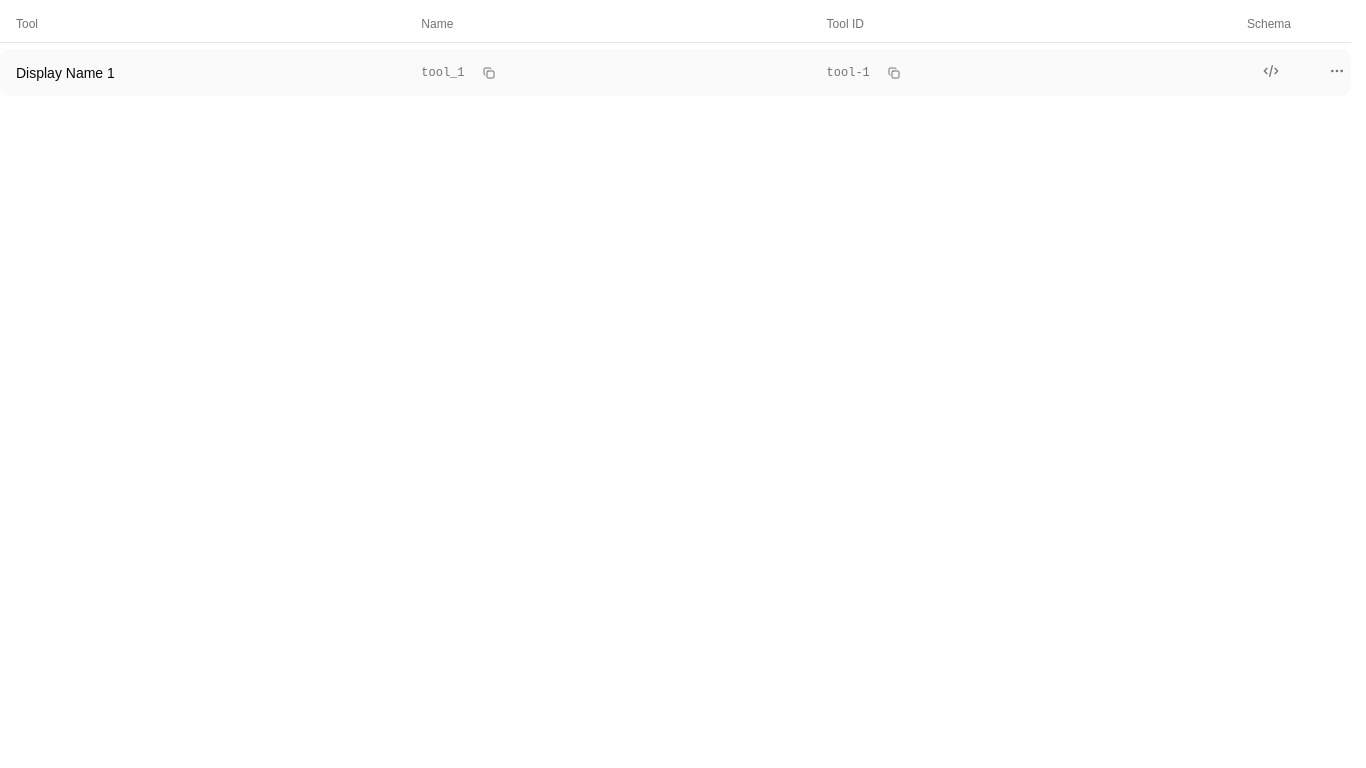
Test: ToolsTable › closes schema dialog when Close button is clicked
# Open dialog
What coordinates should you click on to do the following:
click the button named "View schema"
I would click on:
 (1271, 71)
Its box is [1261,61,1281,81].
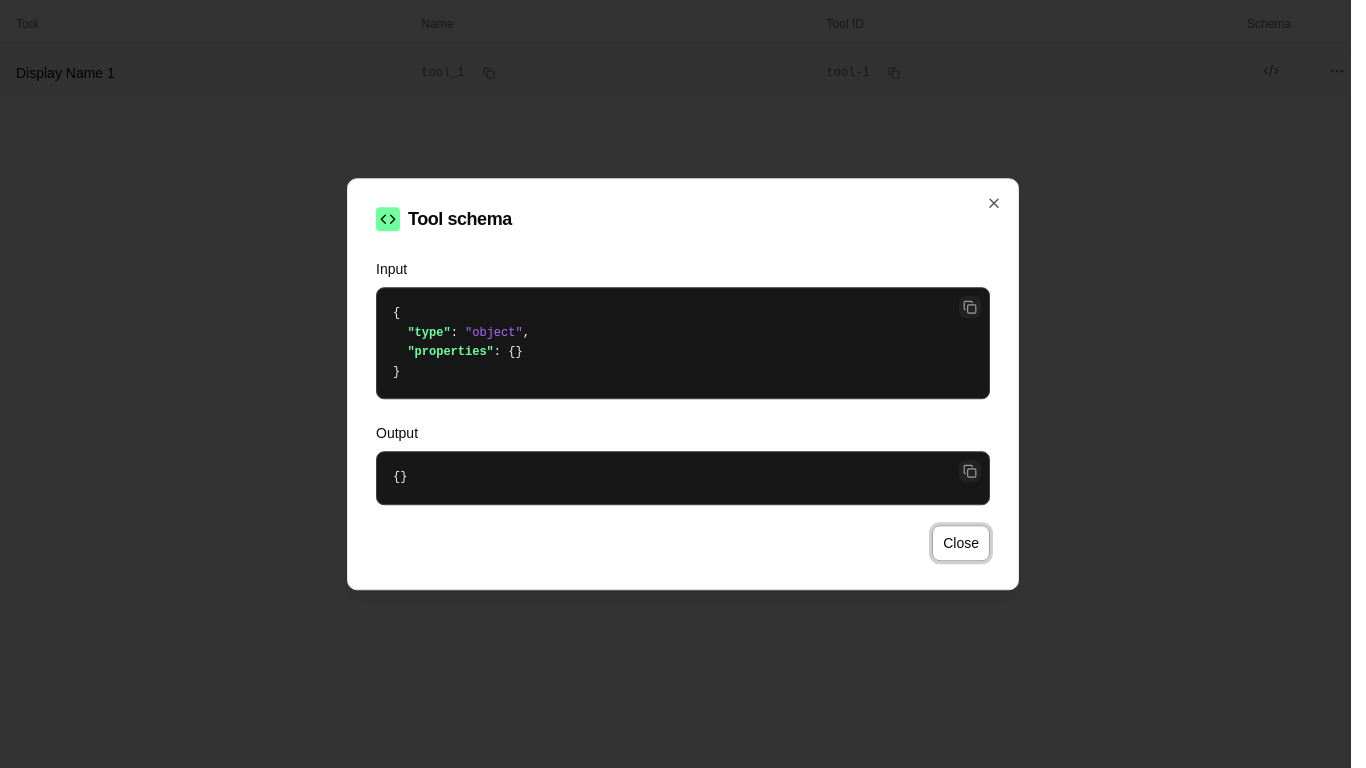
Result: the dialog is shown at [347,178,1019,590]
What coordinates should you click on to do the following:
click the button "Close"
I would click on:
 (961, 543)
Its box is [932,525,990,561].
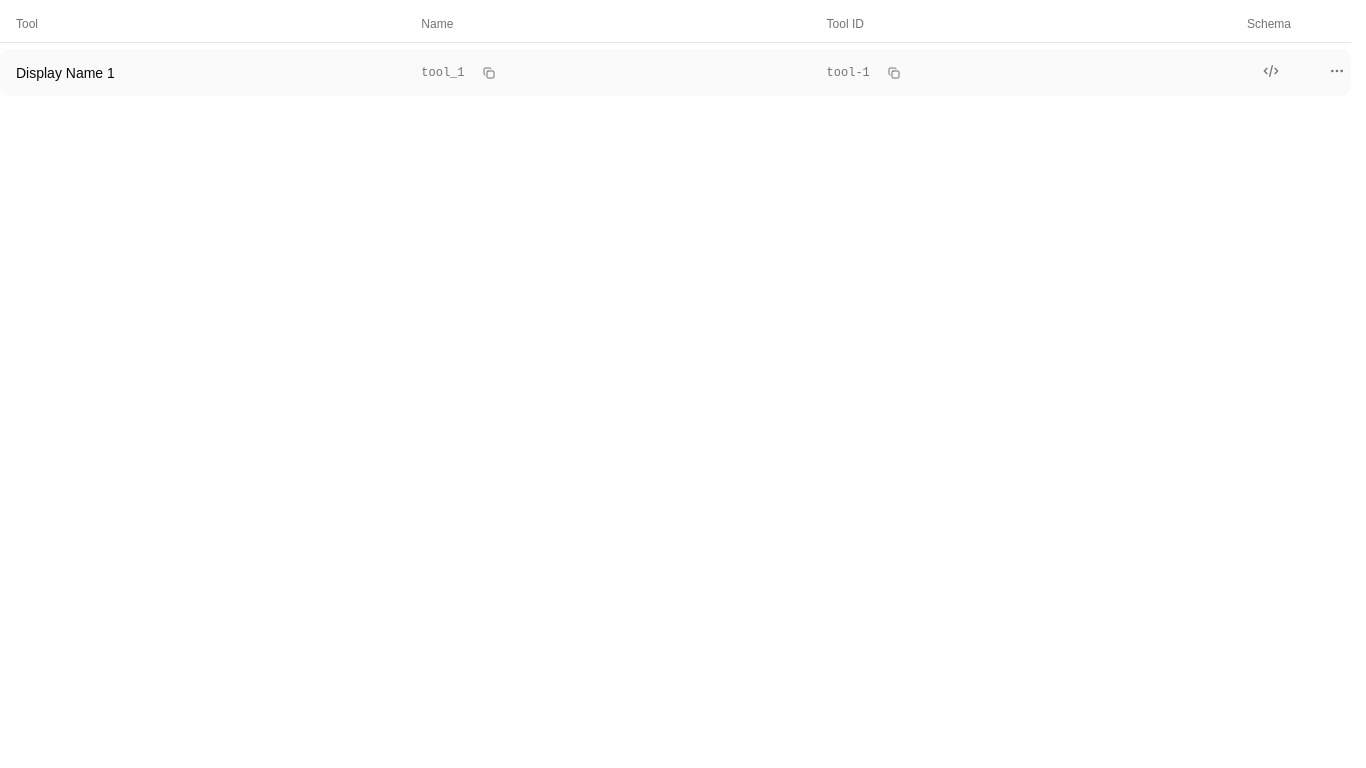
Result: the dialog is gone
